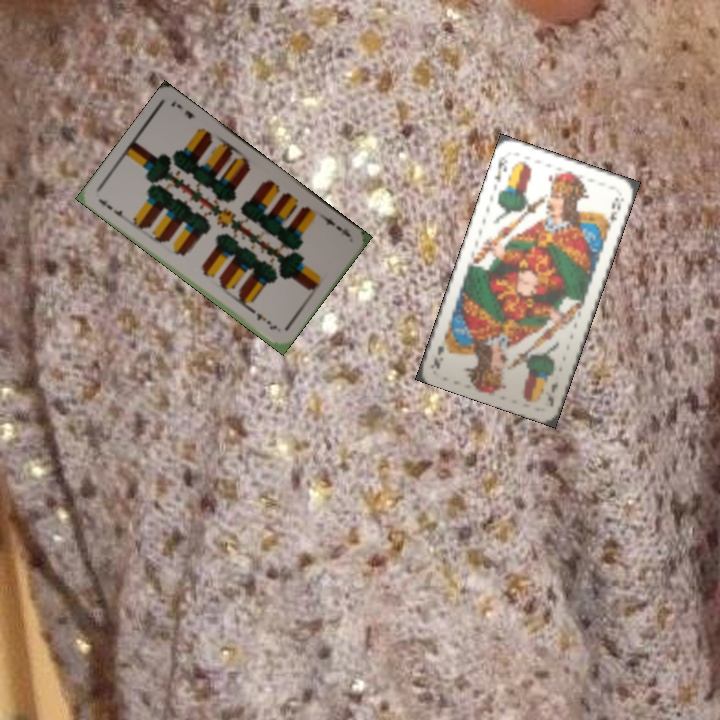E7: (317, 210, 353, 240), (94, 195, 130, 223)
EK: (490, 152, 511, 185), (544, 378, 561, 410)
